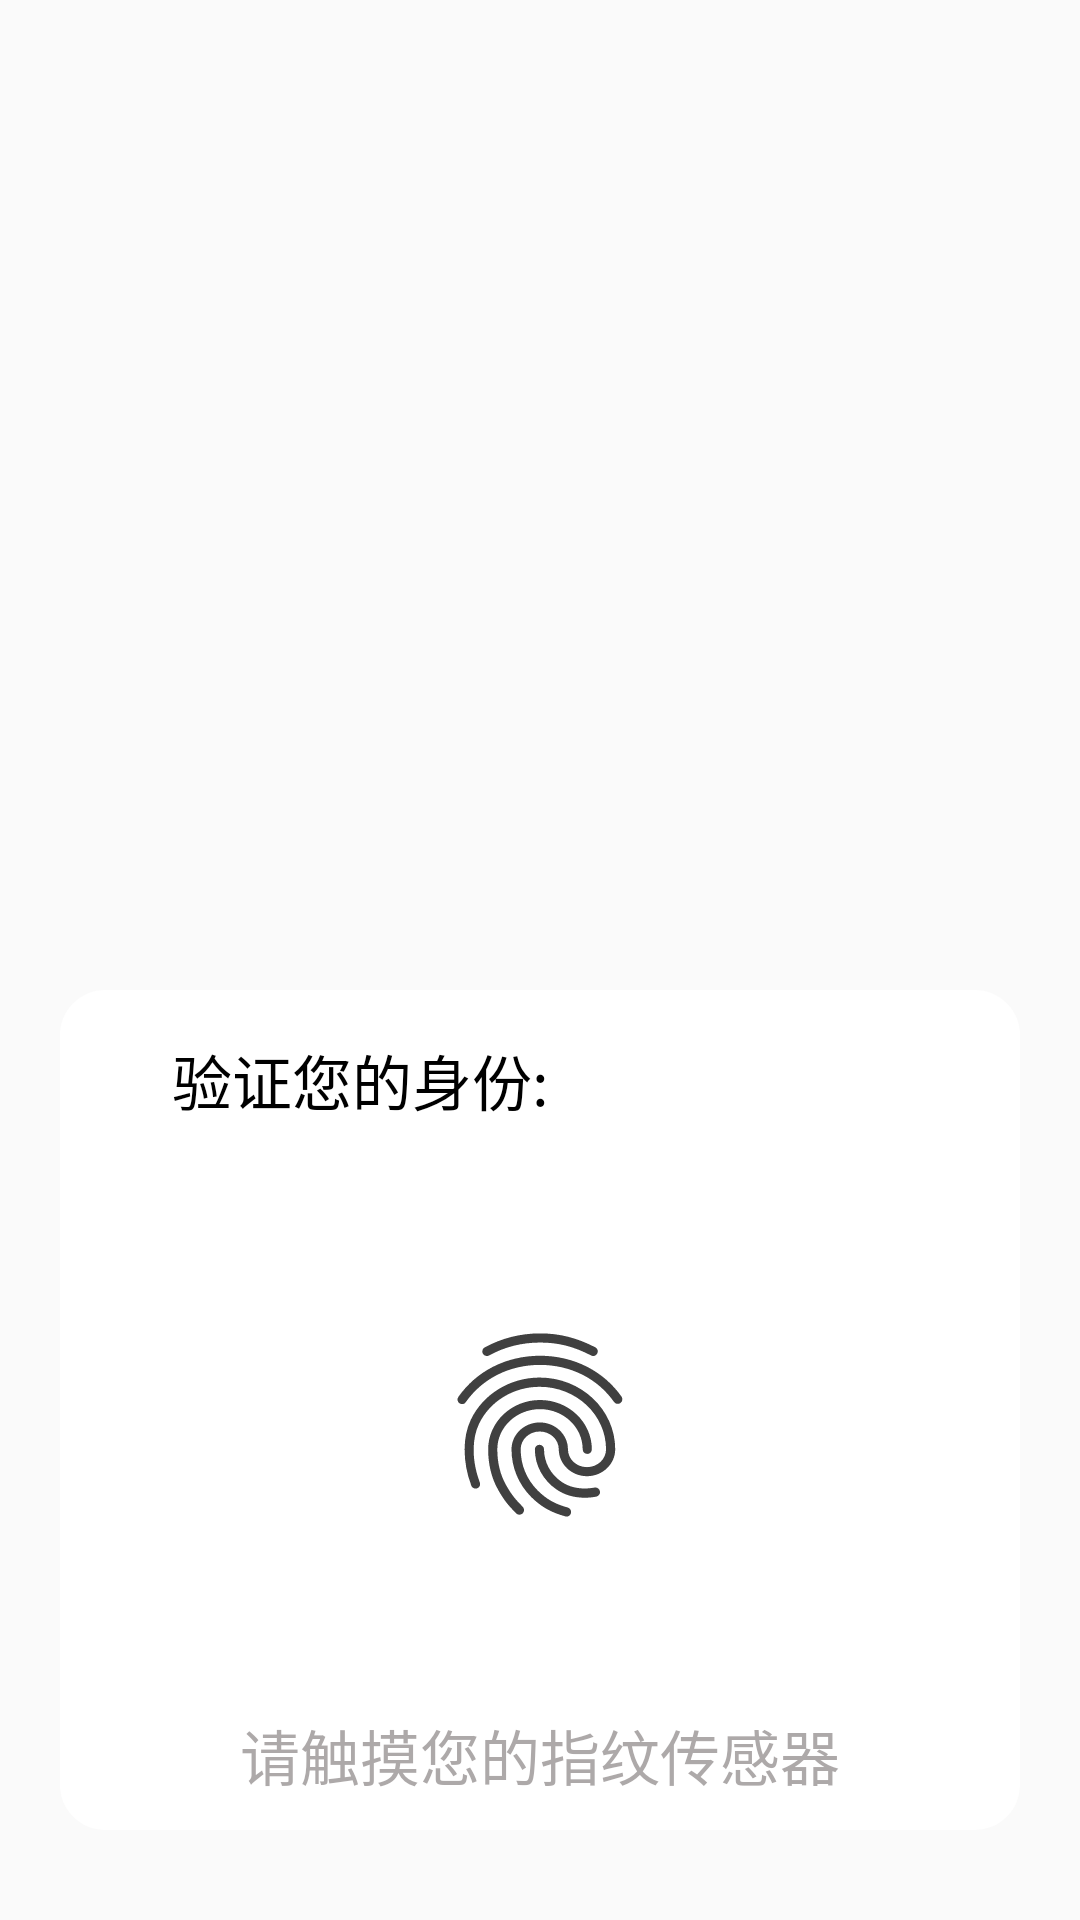

Named icons in this screenshot (1080x1920) and their centers, [x,y]:
finger print: [540,1425]
